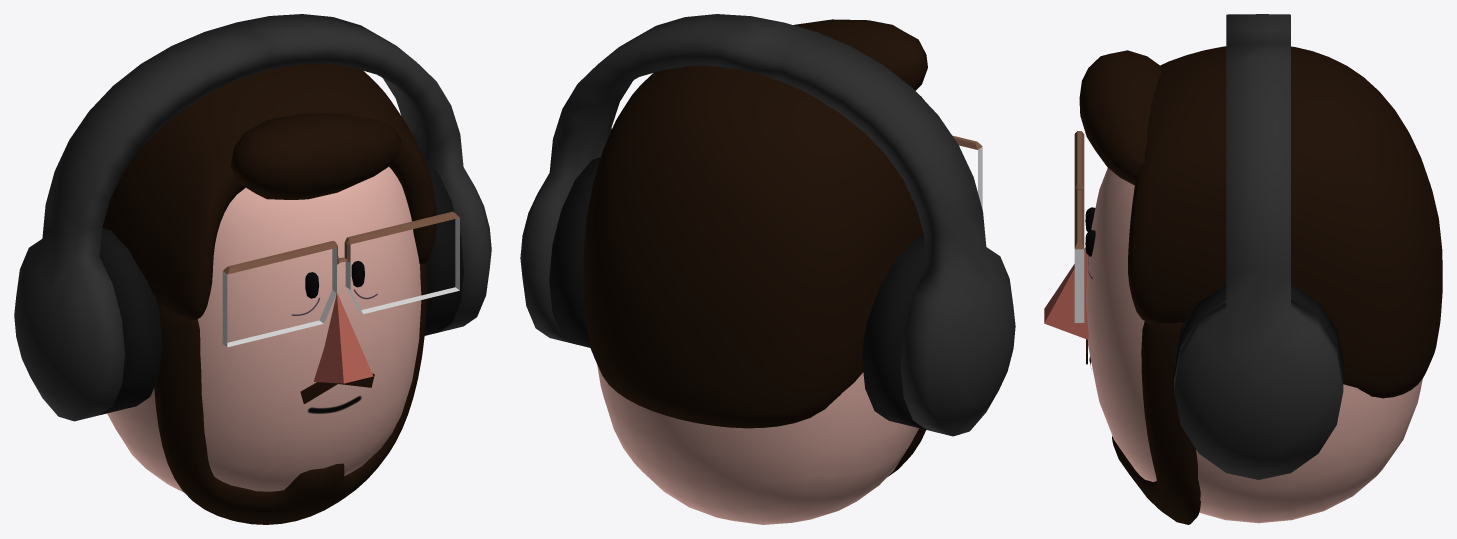
File: Head.glb
The picture shows the model from 3 angles, left to right: view 1: azimuth 30°, elevation 25°; view 2: azimuth 150°, elevation 25°; view 3: azimuth 270°, elevation 25°; orthographic projection. The views are drawn at different scales.
Parts seen in each view (by area): view 1: Headphone, Head, Hair, Beard, Hair_1, Nose, Glasses, Glasses.001, Eyes, Stache; view 2: Hair, Headphone, Head, Hair_1; view 3: Hair, Headphone, Head, Beard, Hair_1, Nose, Glasses.001, Glasses.
Part boxes in pixels (x1,y1,x2,y2): Headphone: [14, 14, 491, 421]; Head: [107, 166, 421, 492]; Hair: [102, 63, 436, 320]; Beard: [154, 263, 427, 524]; Hair_1: [231, 113, 401, 199]; Nose: [314, 292, 373, 383]; Glasses: [222, 218, 459, 347]; Glasses.001: [223, 211, 459, 274]; Eyes: [305, 261, 364, 298]; Stache: [300, 373, 374, 403]; Hair: [583, 65, 924, 428]; Headphone: [520, 14, 1015, 436]; Head: [597, 364, 918, 524]; Hair_1: [793, 19, 927, 90]; Hair: [1128, 46, 1442, 398]; Headphone: [1174, 14, 1343, 479]; Head: [1086, 168, 1422, 523]; Beard: [1112, 321, 1200, 524]; Hair_1: [1079, 50, 1161, 185]; Nose: [1044, 247, 1088, 339]; Glasses.001: [1074, 131, 1084, 249]; Glasses: [1074, 249, 1084, 322].
Bounding box in the file's own units: 2.52 × 2.48 × 1.92.
9 materials, 1 textured.
